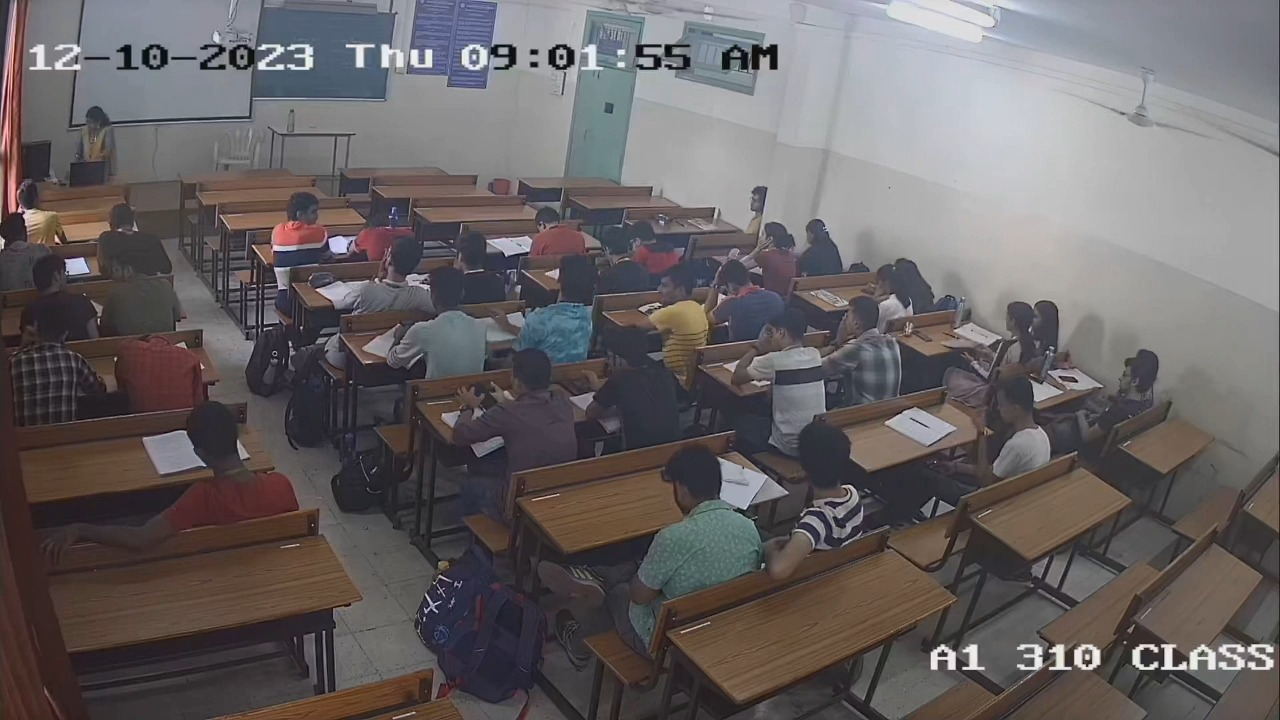cell-phones: (467, 380, 499, 412), (911, 325, 933, 344), (1061, 370, 1081, 386), (859, 285, 878, 297)
person: (451, 348, 577, 461), (1065, 352, 1159, 436), (963, 301, 1036, 366), (875, 265, 914, 320)
